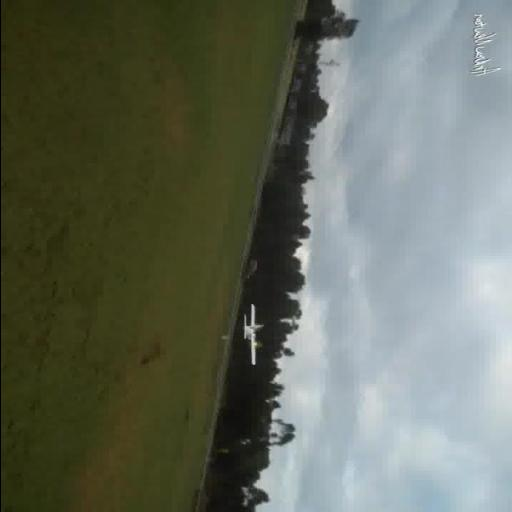uav: (228, 298, 274, 380)
